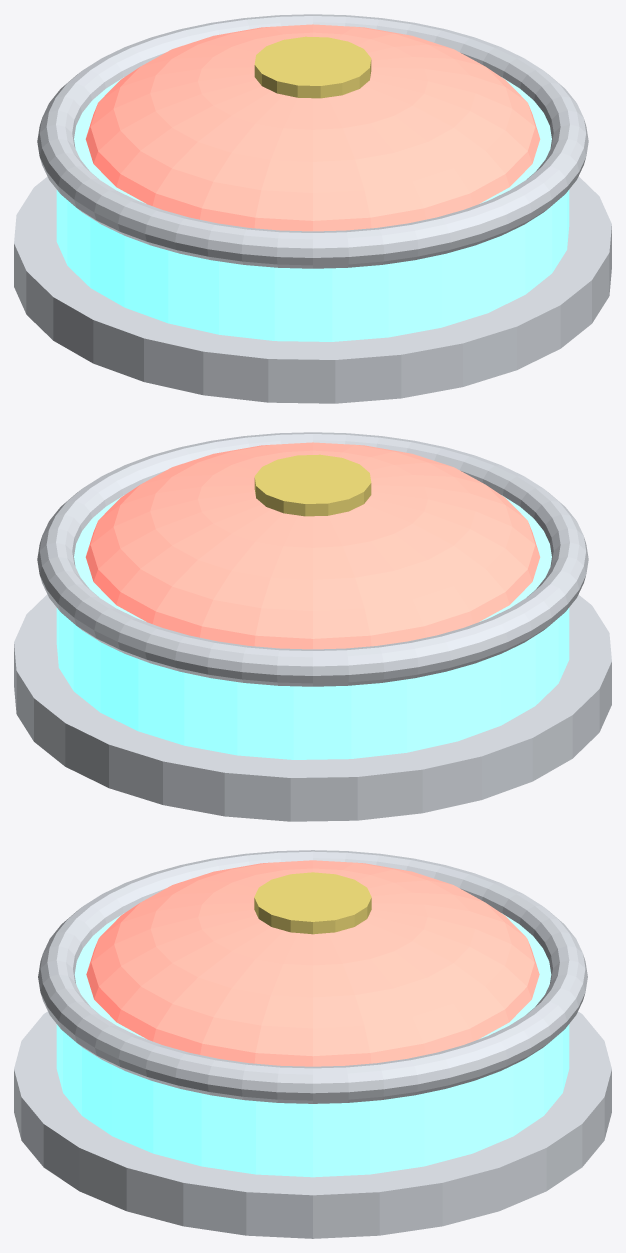
The model's file is custom_bumper.glb.
3 views of the same model, one above another, from view 1: azimuth 30°, elevation 25°; view 2: azimuth 150°, elevation 25°; view 3: azimuth 270°, elevation 25° (orthographic).
Parts seen in each view (by area): view 1: Sphere, Cylinder, Cylinder.001, Torus, Cylinder.002; view 2: Sphere, Cylinder, Cylinder.001, Torus, Cylinder.002; view 3: Sphere, Cylinder, Cylinder.001, Torus, Cylinder.002.
Part boxes in pixels (x1=…): Sphere: x1=85, y1=24, x2=540, y2=231; Cylinder: x1=14, y1=176, x2=611, y2=403; Cylinder.001: x1=56, y1=77, x2=569, y2=341; Torus: x1=37, y1=14, x2=588, y2=268; Cylinder.002: x1=254, y1=36, x2=371, y2=98; Sphere: x1=85, y1=442, x2=540, y2=649; Cylinder: x1=14, y1=594, x2=611, y2=821; Cylinder.001: x1=56, y1=495, x2=569, y2=759; Torus: x1=37, y1=432, x2=588, y2=686; Cylinder.002: x1=254, y1=454, x2=371, y2=516; Sphere: x1=86, y1=860, x2=539, y2=1066; Cylinder: x1=14, y1=1011, x2=611, y2=1238; Cylinder.001: x1=56, y1=913, x2=569, y2=1177; Torus: x1=38, y1=850, x2=587, y2=1103; Cylinder.002: x1=254, y1=872, x2=371, y2=934.
Size of the model in its own units: 2.24 by 0.89 by 2.24.
